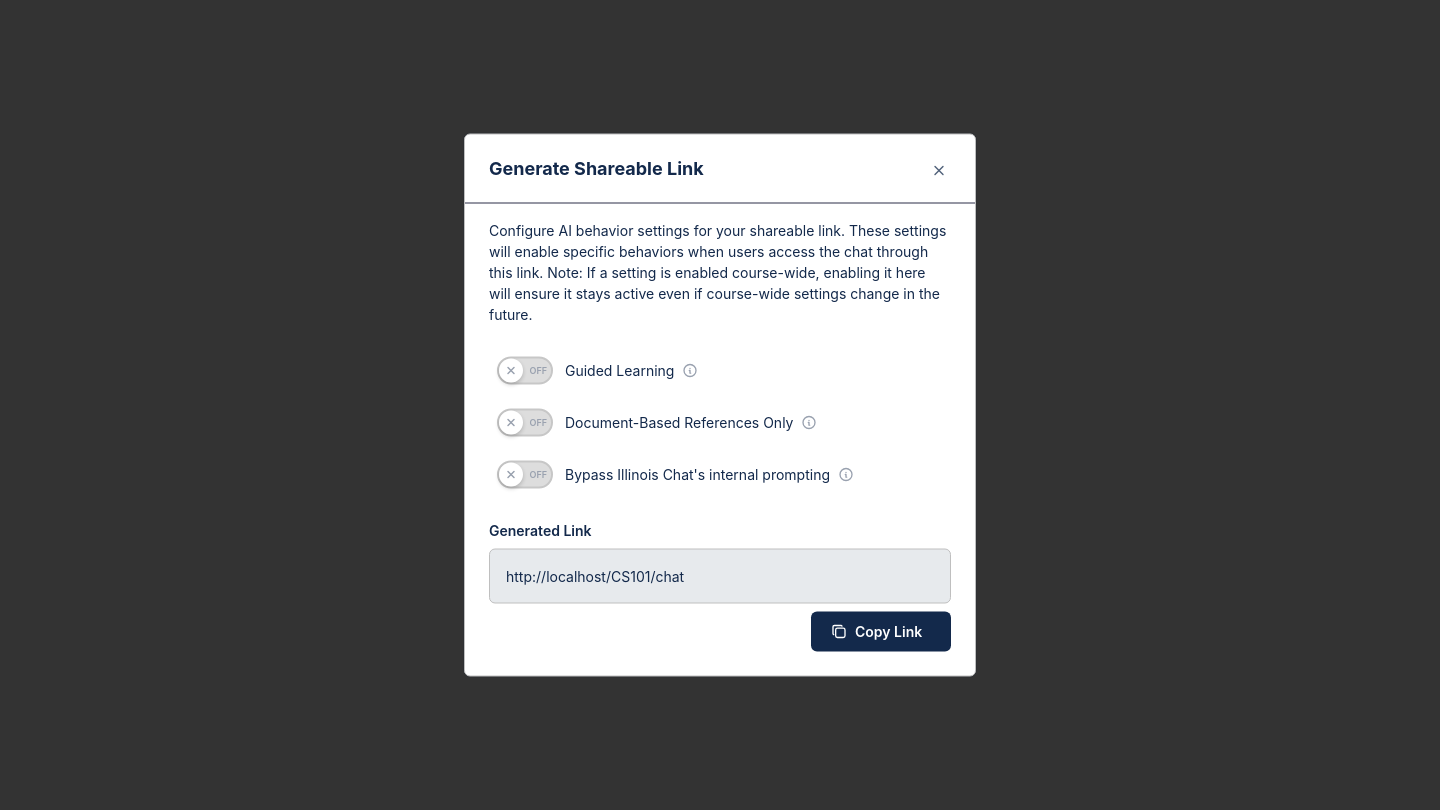
LinkGeneratorModal › generates a link that reflects toggle state and resets on reopen
Expected: the text "http://localhost/CS101/chat" is shown, [506,568,684,584]
Expected: the text "guidedLearning=true" is not shown
Note: Toggle guided learning.
Step 1. Click the text "Guided Learning" → (632, 370), box [565,360,698,380]
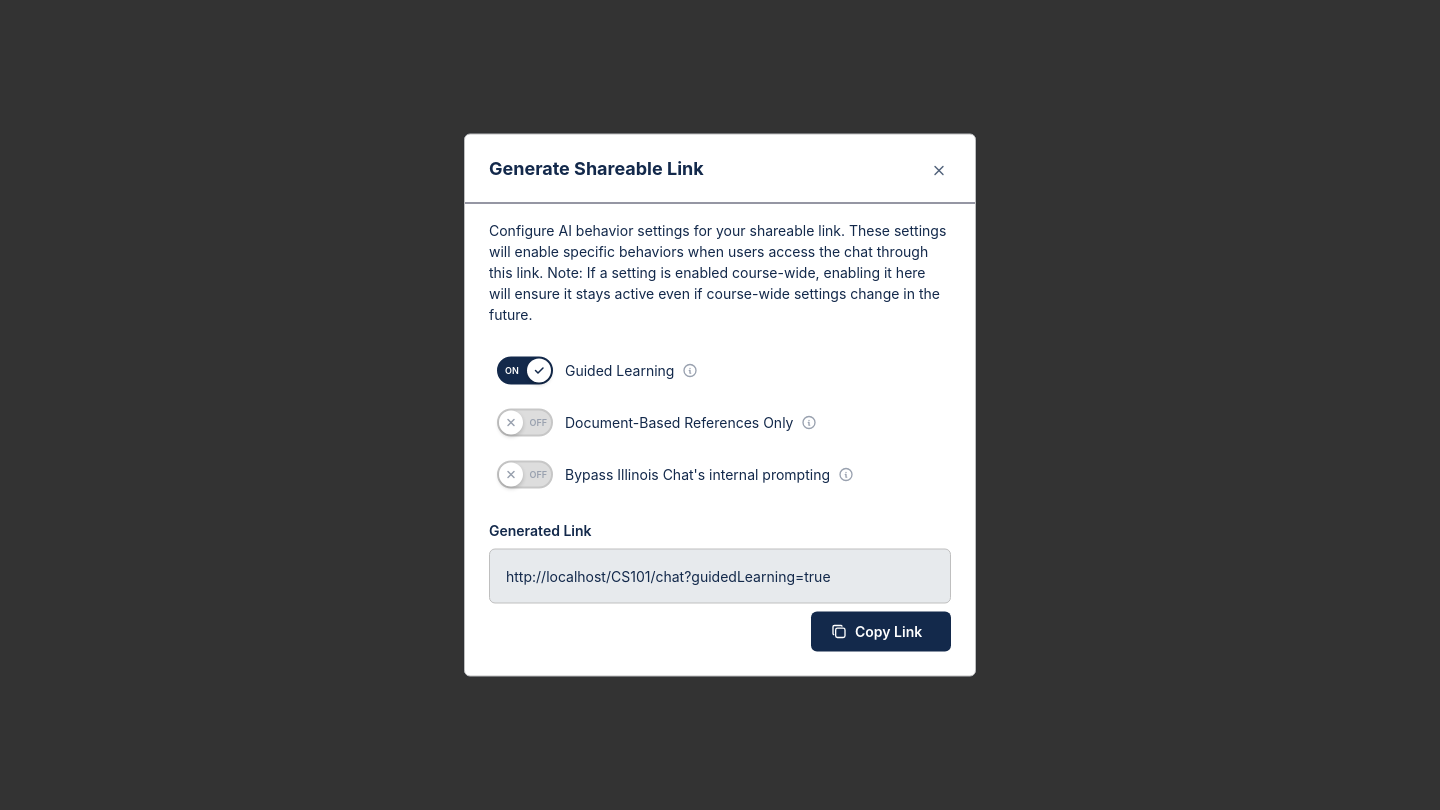
Expected: the text "http://localhost/CS101/chat?guidedLearning=true" is shown, [506,568,830,584]
